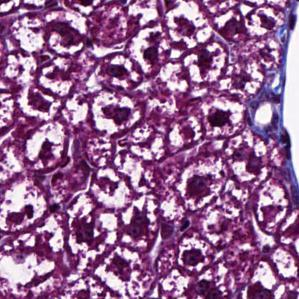inflammation: (184, 40, 231, 90), (90, 92, 141, 135)
